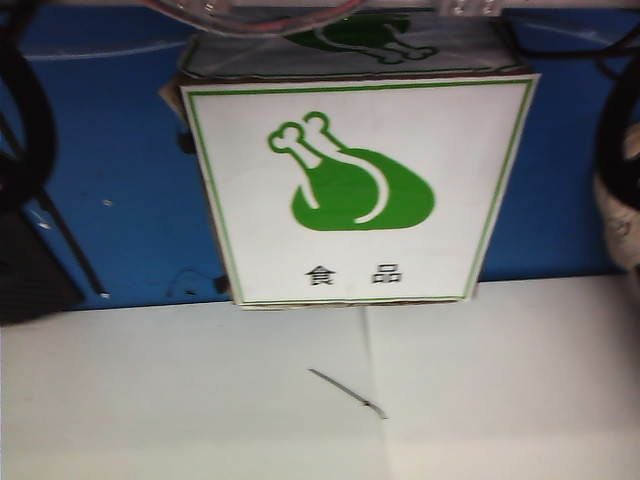Cube_food: (257, 109, 446, 298)
